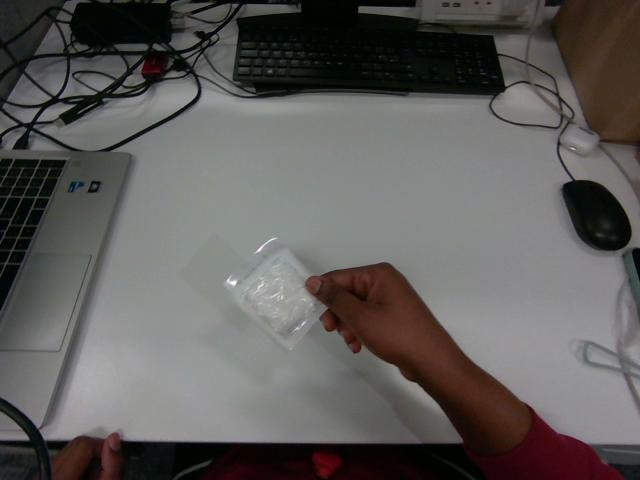gauze: (225, 239, 324, 349)
